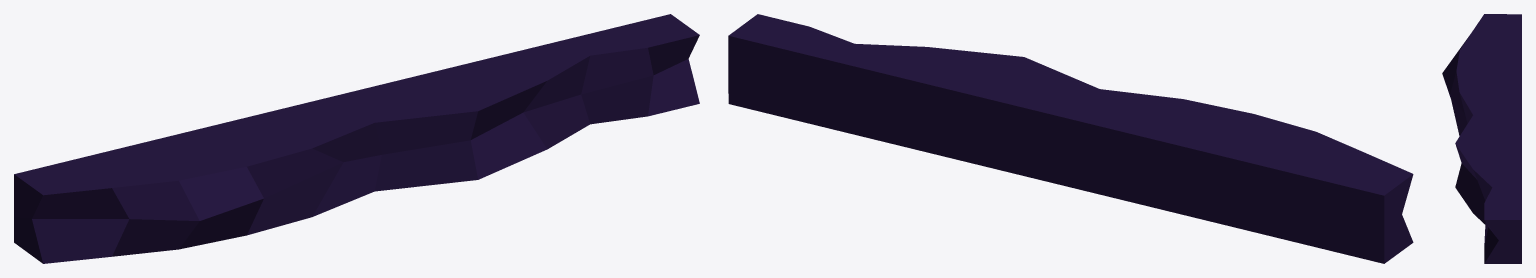
Rendered from cave_wall_middle_001_msh.fbx.
3 views of the same model, side by side, from view 1: azimuth 30°, elevation 25°; view 2: azimuth 150°, elevation 25°; view 3: azimuth 270°, elevation 25° (orthographic). The views are drawn at different scales.
Parts seen in each view (by area): view 1: cave_wall_middle_001_msh; view 2: cave_wall_middle_001_msh; view 3: cave_wall_middle_001_msh.
Boxes of the visible parts, x1,y1,x2,y2 form: cave_wall_middle_001_msh: (14, 14, 699, 263); cave_wall_middle_001_msh: (728, 14, 1413, 263); cave_wall_middle_001_msh: (1442, 14, 1521, 263).
Bounding box in the file's own units: 2000 × 200 × 327.
